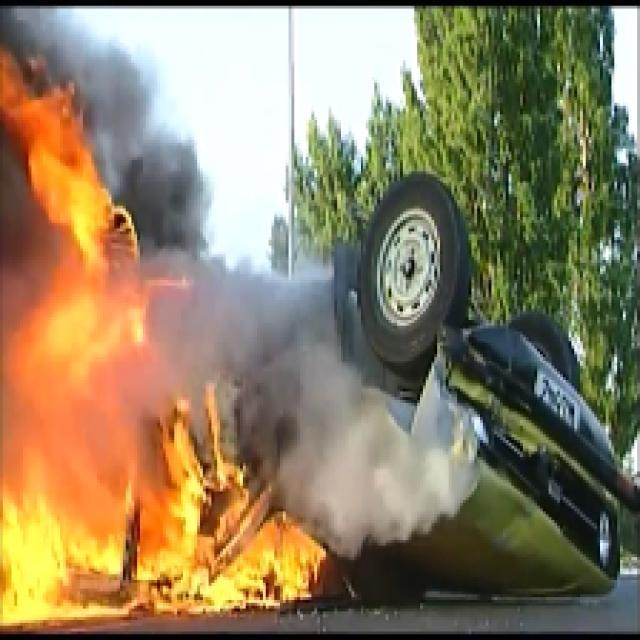Fire: (4, 113, 162, 628), (544, 5, 637, 254), (176, 432, 246, 605)
Smoke: (208, 272, 365, 415), (310, 432, 462, 512)
